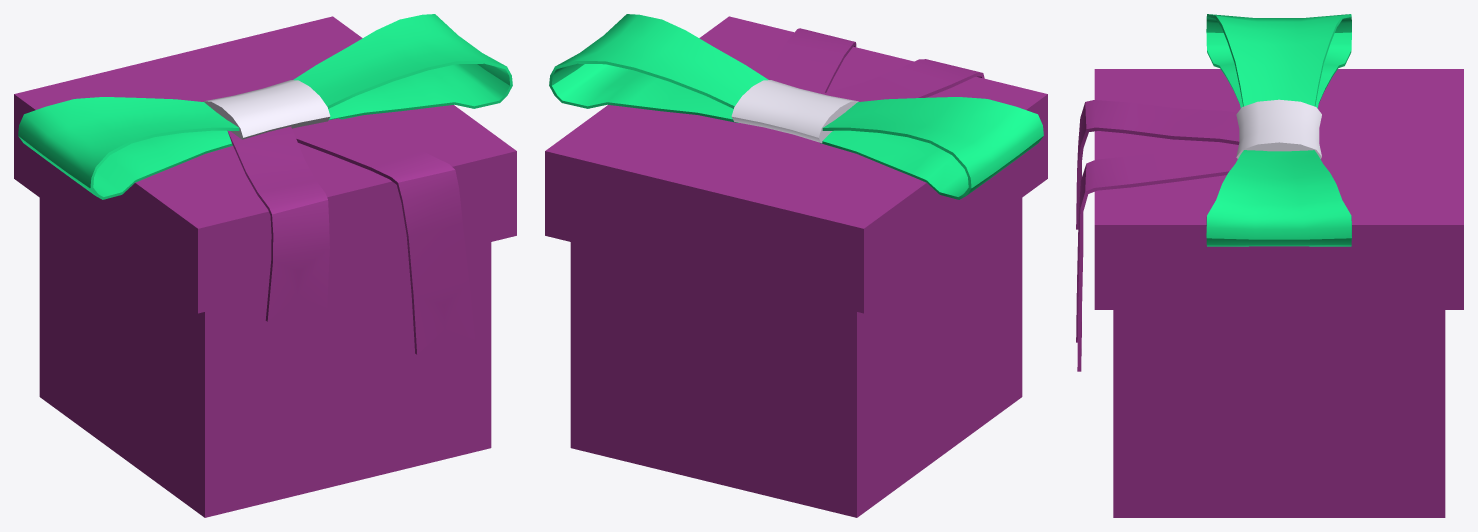
3 renders of one model, left to right at view 1: azimuth 30°, elevation 25°; view 2: azimuth 150°, elevation 25°; view 3: azimuth 270°, elevation 25°, orthographic.
Visible parts, largest first — view 1: Box_low__0, split_parent_2, Bow1_low__0; view 2: Box_low__0, split_parent_2, Bow1_low__0; view 3: Box_low__0, split_parent_2, Bow1_low__0.
Boxes of the visible parts, x1=… form: Box_low__0: x1=14, y1=16, x2=516, y2=517; split_parent_2: x1=18, y1=14, x2=512, y2=199; Bow1_low__0: x1=203, y1=80, x2=330, y2=139; Box_low__0: x1=545, y1=16, x2=1047, y2=517; split_parent_2: x1=549, y1=14, x2=1043, y2=199; Bow1_low__0: x1=731, y1=80, x2=858, y2=143; Box_low__0: x1=1076, y1=69, x2=1463, y2=517; split_parent_2: x1=1206, y1=14, x2=1351, y2=246; Bow1_low__0: x1=1236, y1=99, x2=1321, y2=158.
Bounding box in the file's own units: 1 × 0.7743 × 0.7923.
